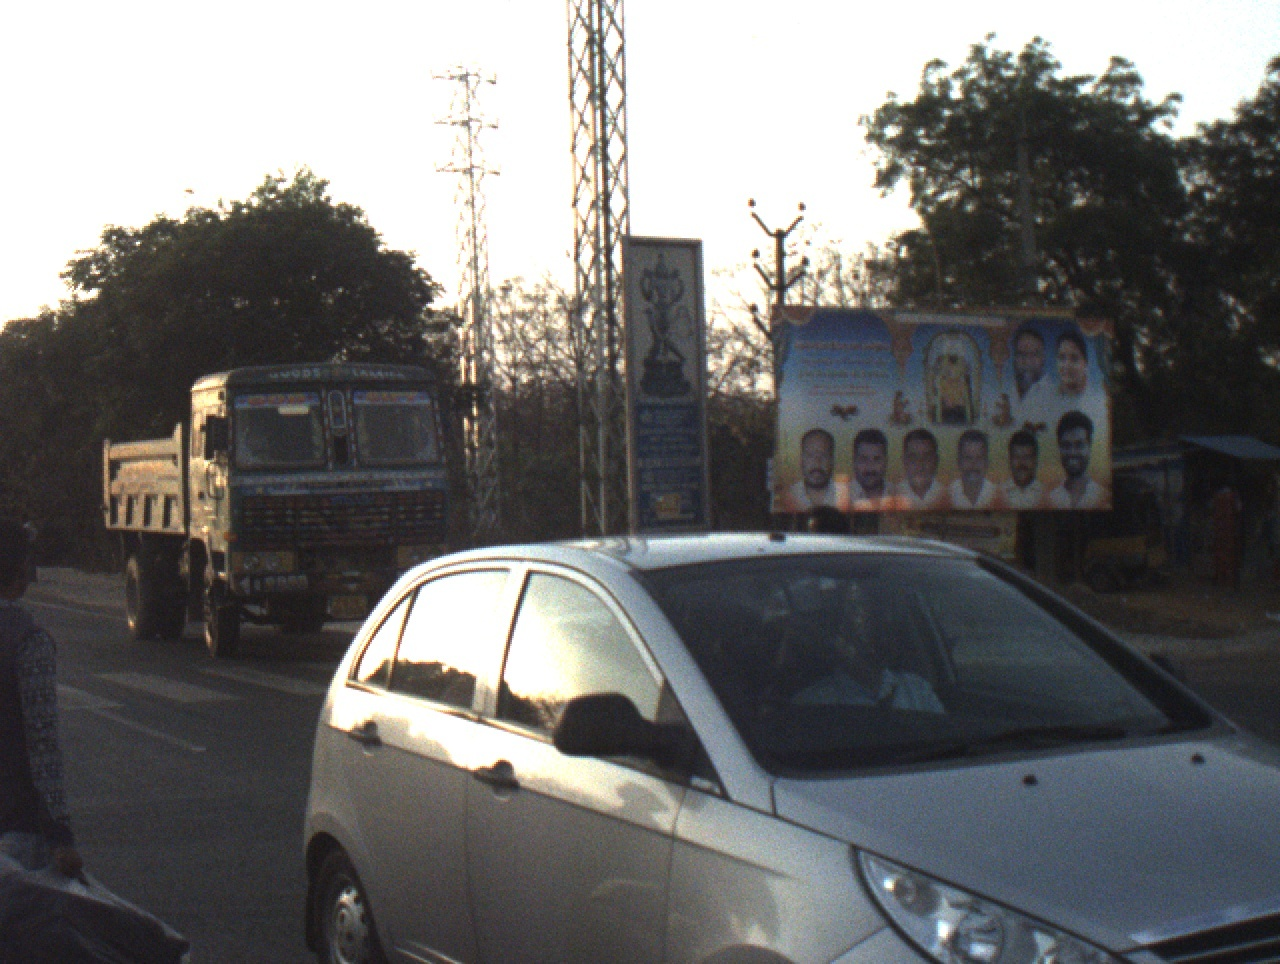autorickshaw: (1018, 473, 1171, 601)
car: (265, 521, 1279, 962)
person: (5, 508, 204, 960), (1196, 479, 1249, 604), (19, 513, 46, 595), (804, 505, 843, 535)
truck: (92, 354, 456, 653)
